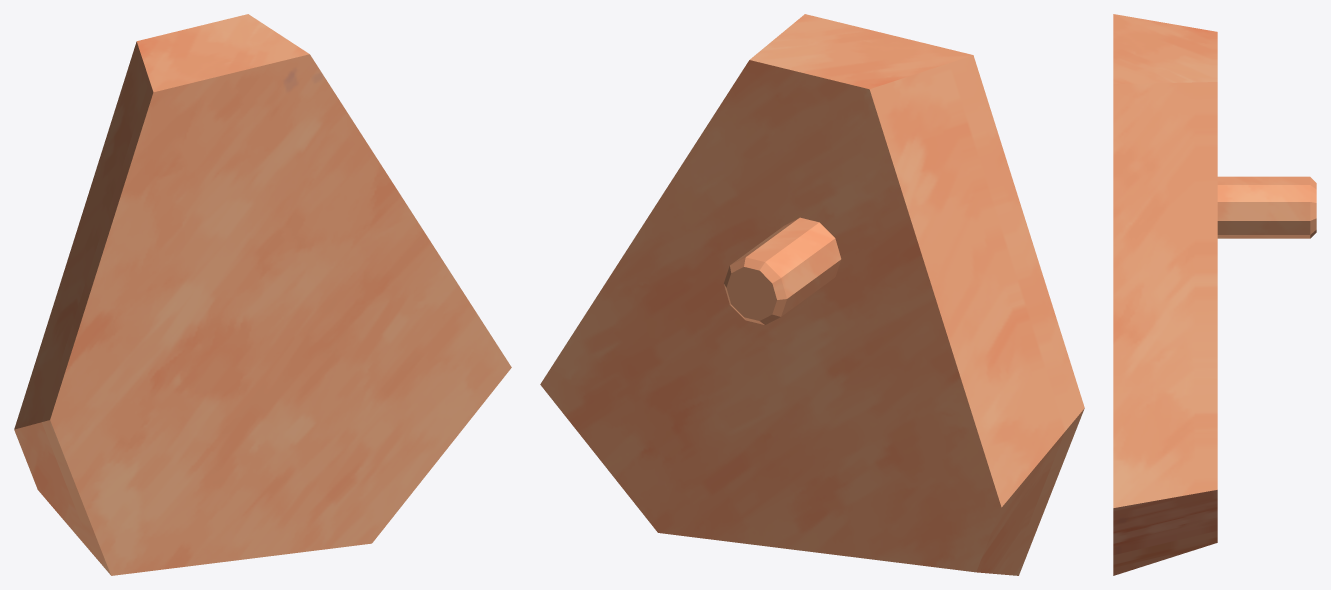
Rendered from wall_plain_s04.fbx.
3 renders of one model, left to right at view 1: azimuth 30°, elevation 25°; view 2: azimuth 150°, elevation 25°; view 3: azimuth 270°, elevation 25°, orthographic. The views are drawn at different scales.
Parts seen in each view (by area): view 1: wall_plain_s04; view 2: wall_plain_s04; view 3: wall_plain_s04.
Boxes of the visible parts, x1=… form: wall_plain_s04: x1=14, y1=14, x2=511, y2=575; wall_plain_s04: x1=540, y1=14, x2=1084, y2=575; wall_plain_s04: x1=1113, y1=14, x2=1316, y2=575.
Size of the model in its own units: 4.71 by 4.92 by 1.95.
